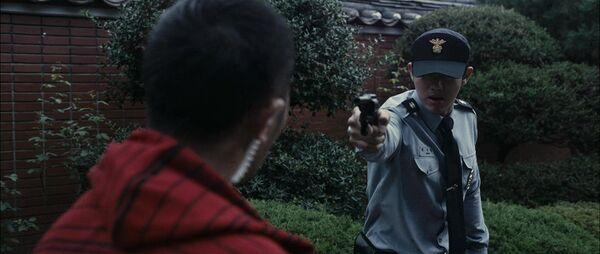Gun: (355, 93, 382, 125)
